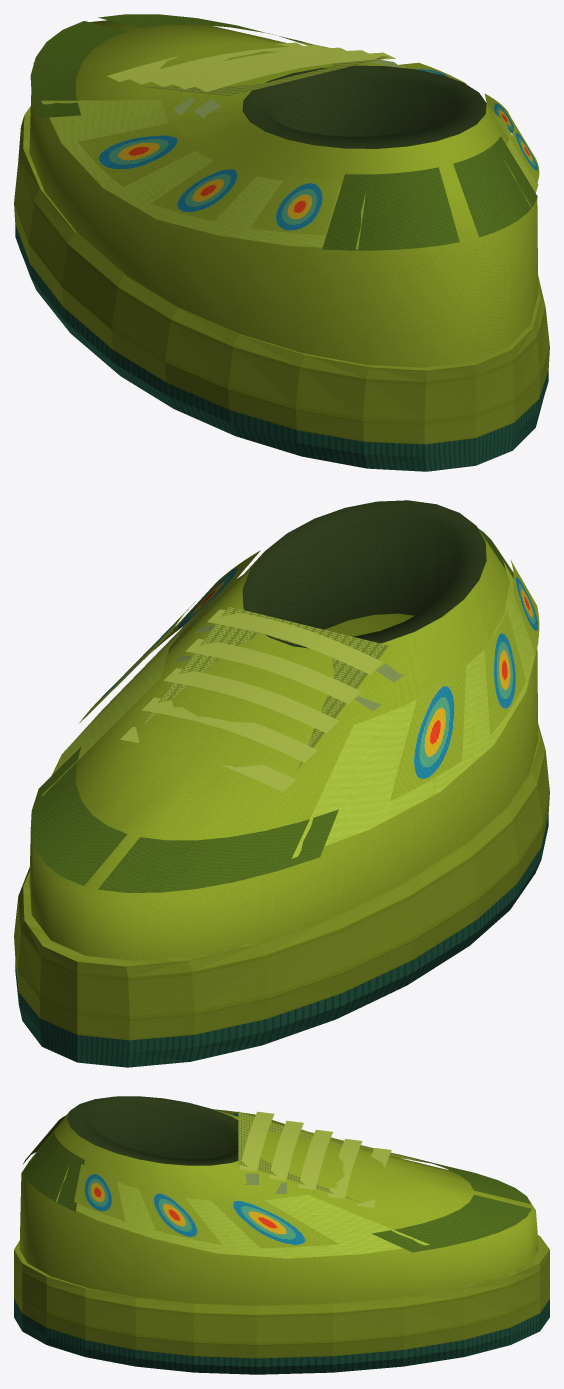
File: CG_SHOES_01.fbx
3 views of the same model, one above another, from view 1: azimuth 30°, elevation 25°; view 2: azimuth 150°, elevation 25°; view 3: azimuth 270°, elevation 25° (orthographic). The views are drawn at different scales.
Parts seen in each view (by area): view 1: Tênis — cabedal com abertura.002, Sola — entressola com quina.002, Tênis — colarinho acolchoado e forro.002, Sola — borracha de contato.002, Tênis — painel lateral de material.004, Tênis — reforço traseiro.004, Tênis — reforço traseiro.005, Tênis — recorte da biqueira.004, Tênis — sobreposição heatmap.002, Tênis — sobreposição heatmap, Tênis — sobreposição heatmap.001, Cadarço.010 (+8 smaller); view 2: Tênis — cabedal com abertura.002, Sola — entressola com quina.002, Tênis — colarinho acolchoado e forro.002, Tênis — painel lateral de material.004, Sola — borracha de contato.002, Tênis — recorte da biqueira.004, Tênis — recorte da biqueira.005, Tênis — sobreposição heatmap.002, Tênis — língua larga.002, Tênis — painel lateral de material.005, Tênis — sobreposição heatmap.001, Cadarço.012 (+6 smaller); view 3: Tênis — cabedal com abertura.002, Sola — entressola com quina.002, Sola — borracha de contato.002, Tênis — colarinho acolchoado e forro.002, Tênis — painel lateral de material.005, Tênis — recorte da biqueira.005, Tênis — sobreposição heatmap.005, Tênis — reforço traseiro.005, Tênis — sobreposição heatmap.004, Tênis — sobreposição heatmap.003, Tênis — língua larga.002, Tênis — recorte da biqueira.004 (+5 smaller).
Part boxes in pixels (bbox=[...]): Tênis — cabedal com abertura.002: bbox=[29, 20, 538, 367]; Sola — entressola com quina.002: bbox=[14, 106, 549, 444]; Tênis — colarinho acolchoado e forro.002: bbox=[242, 65, 486, 148]; Sola — borracha de contato.002: bbox=[15, 225, 548, 471]; Tênis — painel lateral de material.004: bbox=[41, 100, 366, 249]; Tênis — reforço traseiro.004: bbox=[322, 167, 459, 250]; Tênis — reforço traseiro.005: bbox=[453, 136, 537, 237]; Tênis — recorte da biqueira.004: bbox=[30, 21, 126, 118]; Tênis — sobreposição heatmap.002: bbox=[78, 123, 198, 187]; Tênis — sobreposição heatmap: bbox=[250, 175, 341, 235]; Tênis — sobreposição heatmap.001: bbox=[151, 158, 260, 221]; Cadarço.010: bbox=[194, 52, 395, 91]; Tênis — cabedal com abertura.002: bbox=[29, 527, 538, 960]; Sola — entressola com quina.002: bbox=[14, 723, 549, 1040]; Tênis — colarinho acolchoado e forro.002: bbox=[242, 500, 486, 648]; Tênis — painel lateral de material.004: bbox=[291, 561, 538, 858]; Sola — borracha de contato.002: bbox=[15, 814, 548, 1067]; Tênis — recorte da biqueira.004: bbox=[98, 809, 338, 892]; Tênis — recorte da biqueira.005: bbox=[30, 747, 127, 885]; Tênis — sobreposição heatmap.002: bbox=[390, 663, 466, 800]; Tênis — língua larga.002: bbox=[137, 606, 388, 771]; Tênis — painel lateral de material.005: bbox=[41, 575, 242, 796]; Tênis — sobreposição heatmap.001: bbox=[484, 610, 525, 735]; Cadarço.012: bbox=[163, 668, 339, 733]; Tênis — cabedal com abertura.002: bbox=[19, 1109, 538, 1305]; Sola — entressola com quina.002: bbox=[14, 1235, 549, 1358]; Sola — borracha de contato.002: bbox=[14, 1299, 549, 1374]; Tênis — colarinho acolchoado e forro.002: bbox=[67, 1096, 238, 1165]; Tênis — painel lateral de material.005: bbox=[56, 1165, 429, 1258]; Tênis — recorte da biqueira.005: bbox=[372, 1194, 531, 1252]; Tênis — sobreposição heatmap.005: bbox=[206, 1195, 338, 1247]; Tênis — reforço traseiro.005: bbox=[22, 1133, 84, 1211]; Tênis — sobreposição heatmap.004: bbox=[137, 1184, 222, 1245]; Tênis — sobreposição heatmap.003: bbox=[74, 1164, 125, 1221]; Tênis — língua larga.002: bbox=[238, 1111, 362, 1202]; Tênis — recorte da biqueira.004: bbox=[392, 1153, 531, 1204].
Size of the model in its own units: 45.75 by 35.2 by 86.
1 material, 1 textured.
